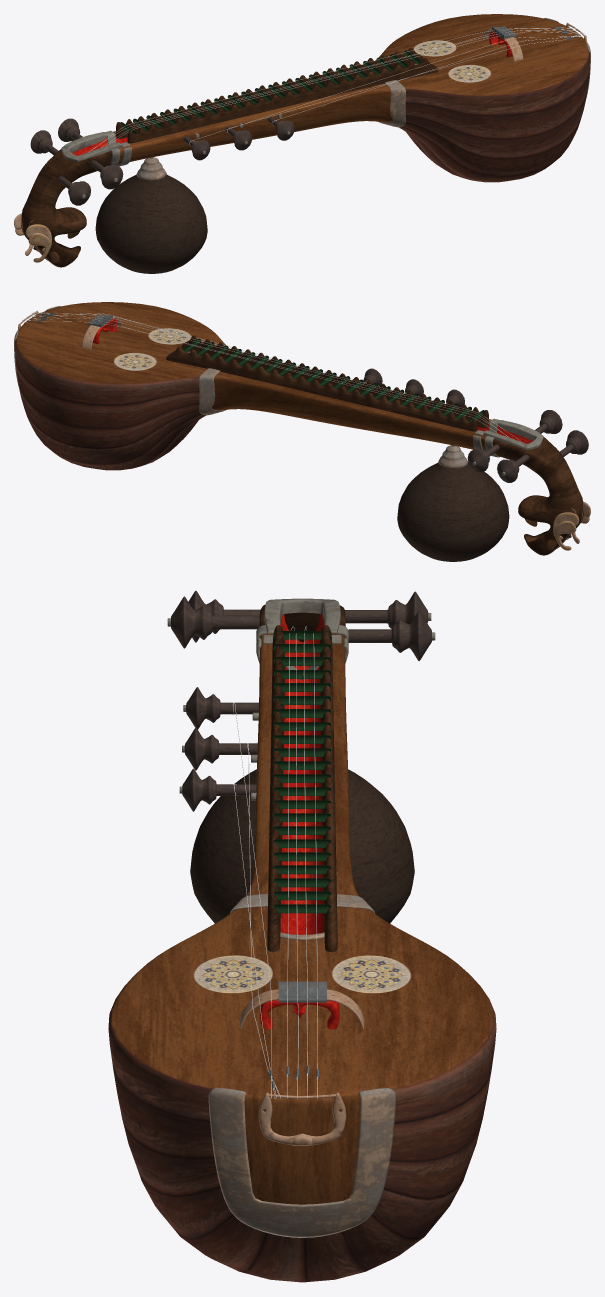
Rendered from asset.glb.
The picture shows the model from 3 angles, top to bottom: view 1: azimuth 30°, elevation 25°; view 2: azimuth 150°, elevation 25°; view 3: azimuth 270°, elevation 25°; orthographic projection. The views are drawn at different scales.
Visible parts, largest first — view 1: YaliheadObj2_0, M_String01_1; view 2: YaliheadObj2_0, M_String01_1; view 3: YaliheadObj2_0, M_String01_1.
Part boxes in pixels (x1,y1,x2,y2): YaliheadObj2_0: [14, 14, 590, 273]; M_String01_1: [89, 26, 586, 151]; YaliheadObj2_0: [14, 302, 590, 561]; M_String01_1: [22, 311, 522, 442]; YaliheadObj2_0: [108, 590, 496, 1282]; M_String01_1: [232, 626, 317, 1099].
Bounding box in the file's own units: 4.63 × 1.2 × 1.39.
Materials: 2 (1 with a texture image).
